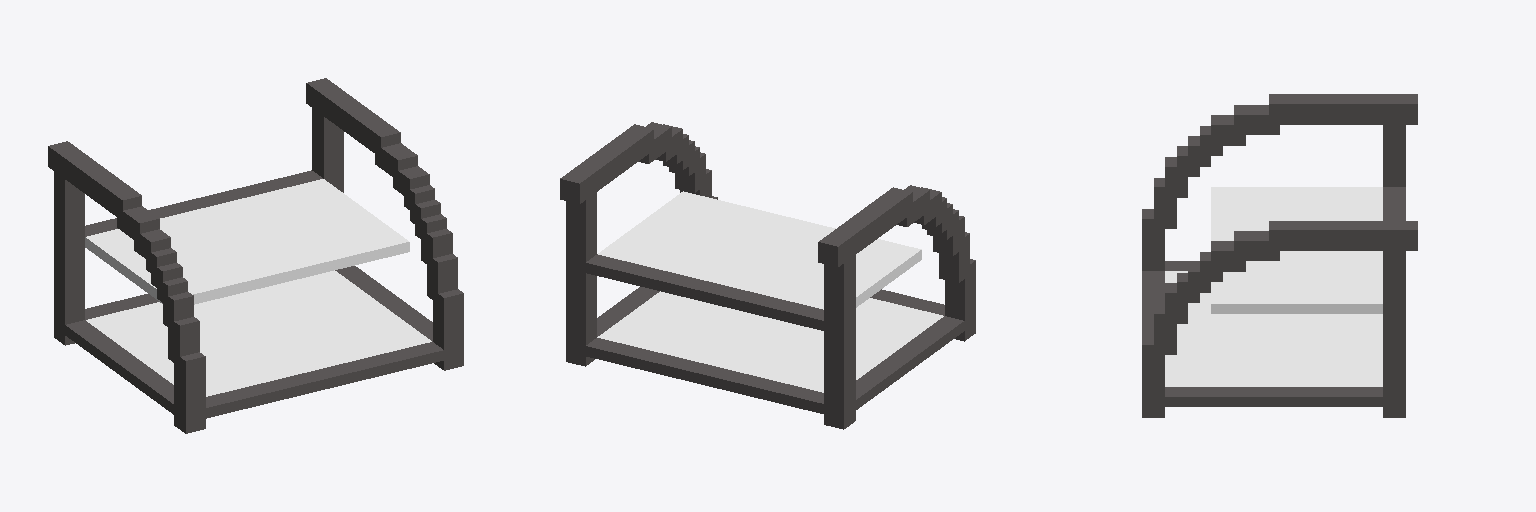
3 renders of one model, left to right at view 1: azimuth 30°, elevation 25°; view 2: azimuth 150°, elevation 25°; view 3: azimuth 270°, elevation 25°, orthographic.
Visible parts, largest first — view 1: object 1; view 2: object 1; view 3: object 1.
Boxes of the visible parts, x1=… form: object 1: x1=48, y1=78, x2=463, y2=433; object 1: x1=560, y1=122, x2=975, y2=429; object 1: x1=1142, y1=94, x2=1417, y2=417.
Size of the model in its own units: 2.8 by 1.8 by 2.4.
1 materials, 1 textured.